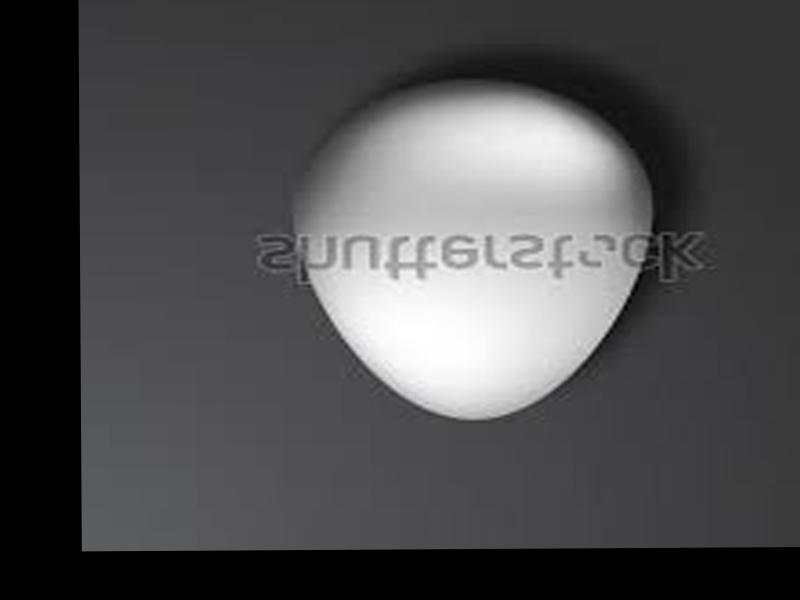Eggs: (293, 81, 653, 423)
